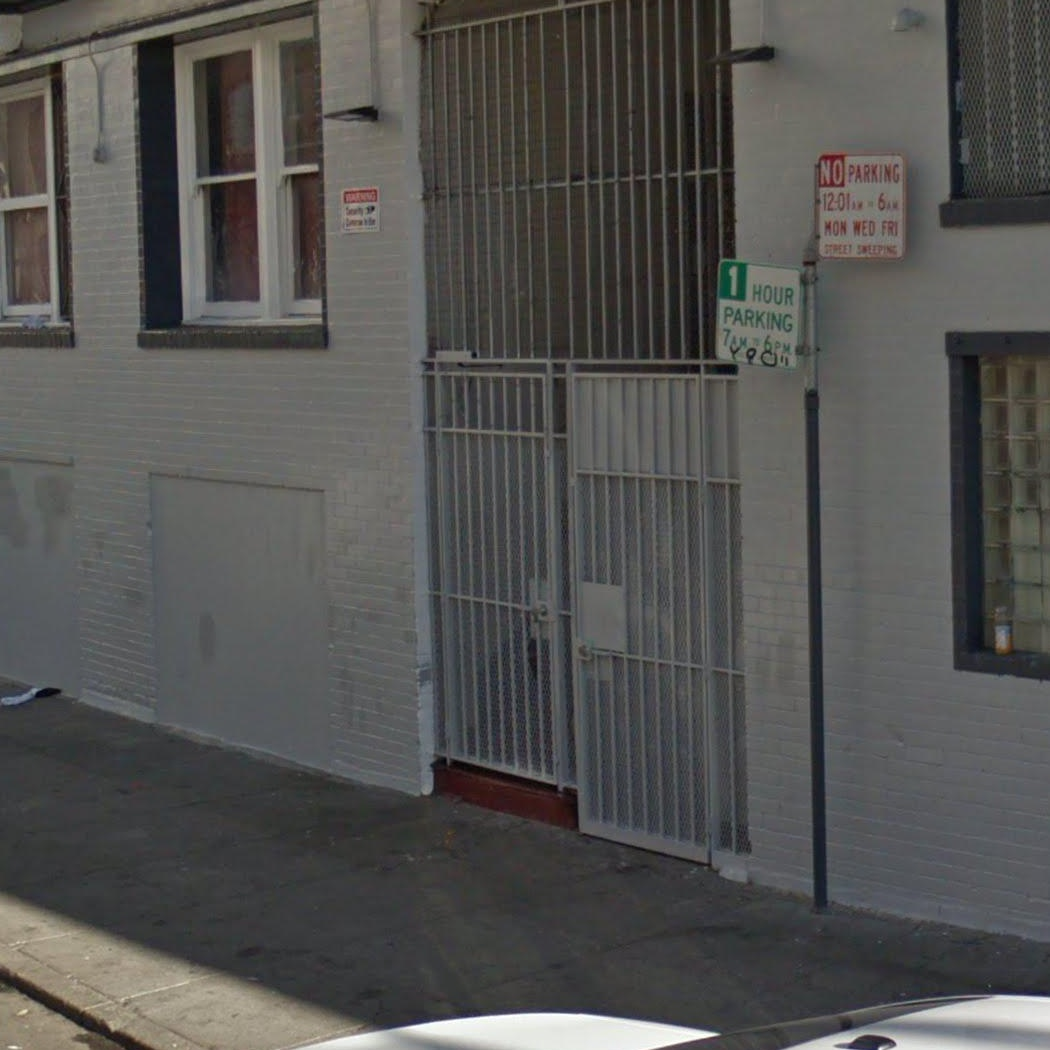1 Hour Parking: (714, 256, 803, 370)
No Parking: (816, 149, 908, 262)
